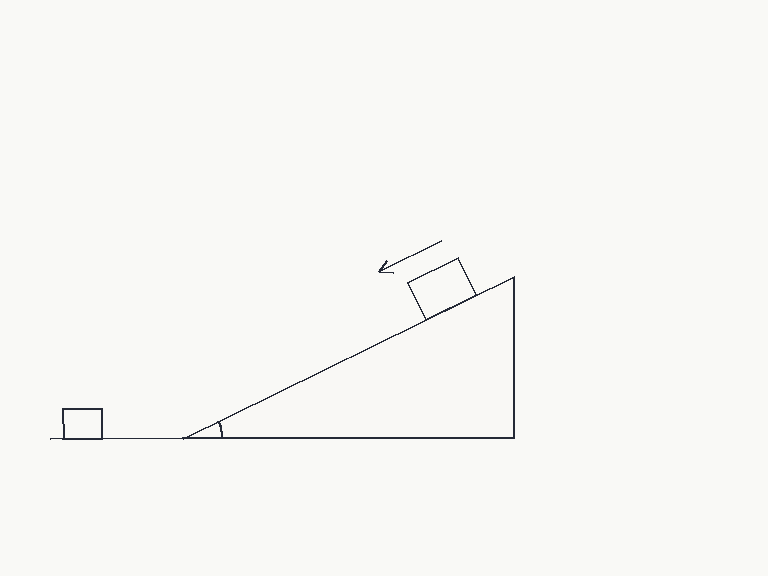block: (405, 256, 477, 321), (60, 407, 104, 440)
ramp: (180, 274, 516, 440)
